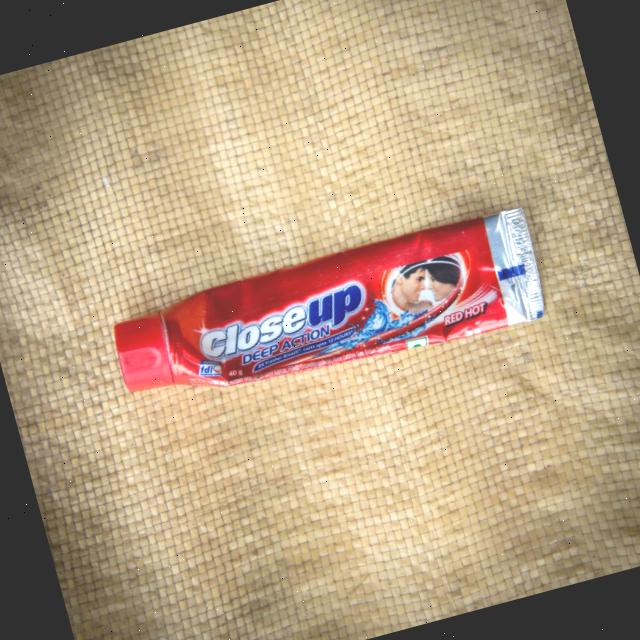Toothpaste: (100, 195, 556, 428)
